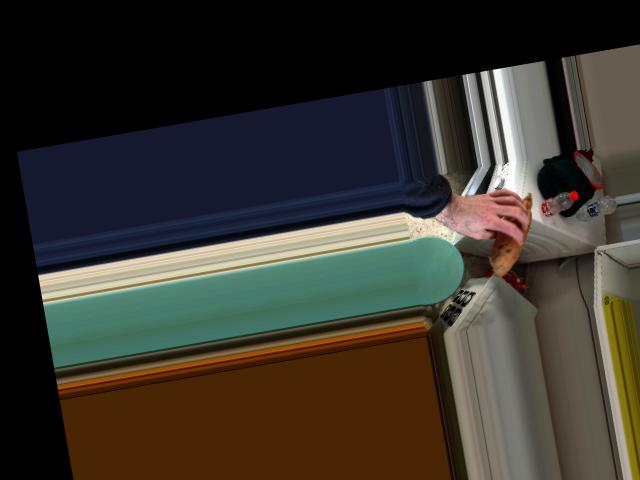sweet_potato: (478, 190, 540, 274)
